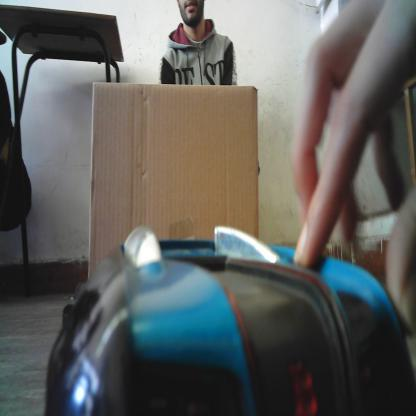LeadTruck: (80, 79, 264, 286)
